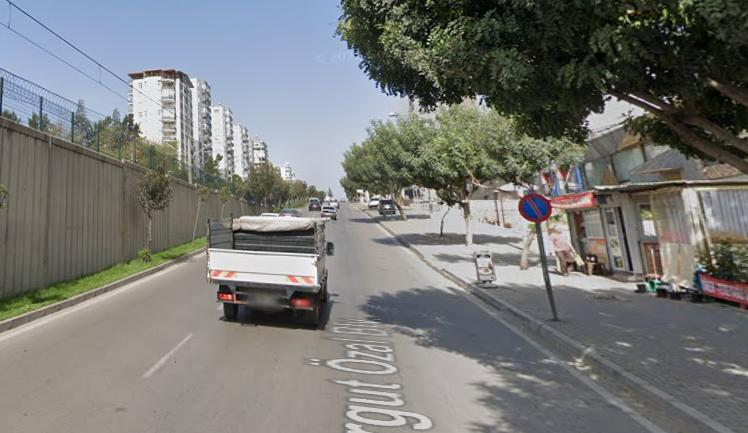nopark: (520, 193, 553, 222)
